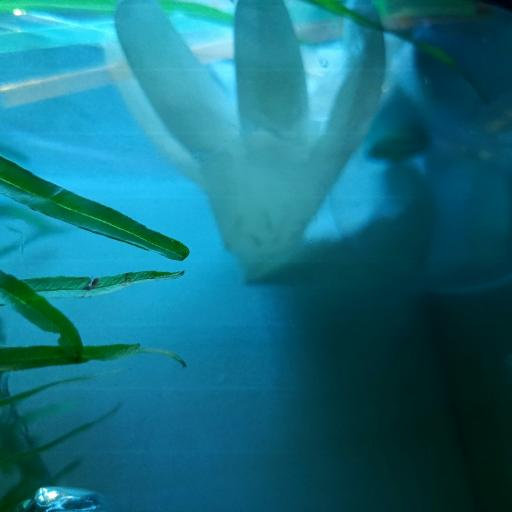glove: (112, 0, 478, 274)
plastic_cup: (333, 22, 512, 292)
plastic_straw: (0, 20, 344, 107), (0, 21, 232, 53)
